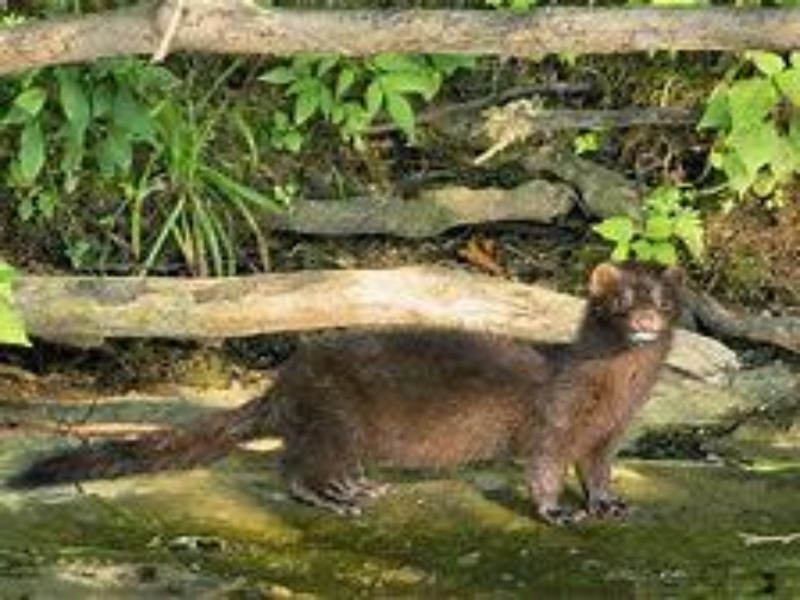minkish: (10, 258, 686, 522)
